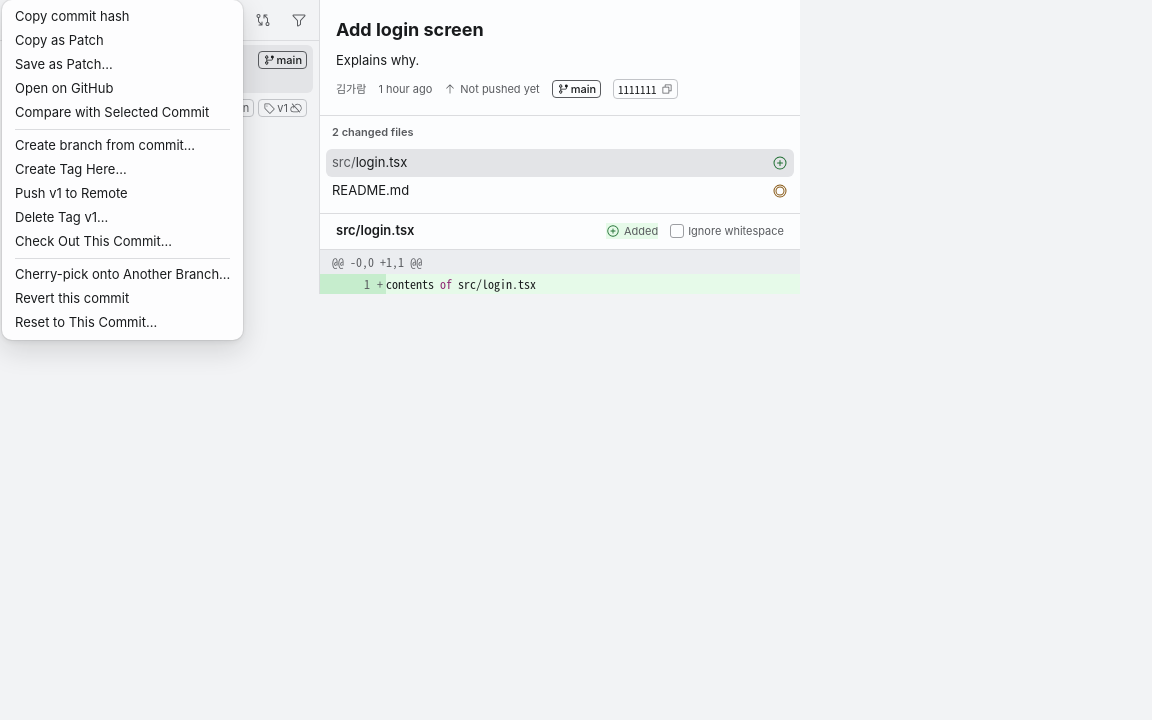
Test: HistoryView › tags and the remote › marks a tag the remote lacks and pushes it from the commit menu
The width and height of the screenshot is (1152, 720).
Click the menu item "Push v1 to Remote": coordinates (71, 193) [15,185,128,201]
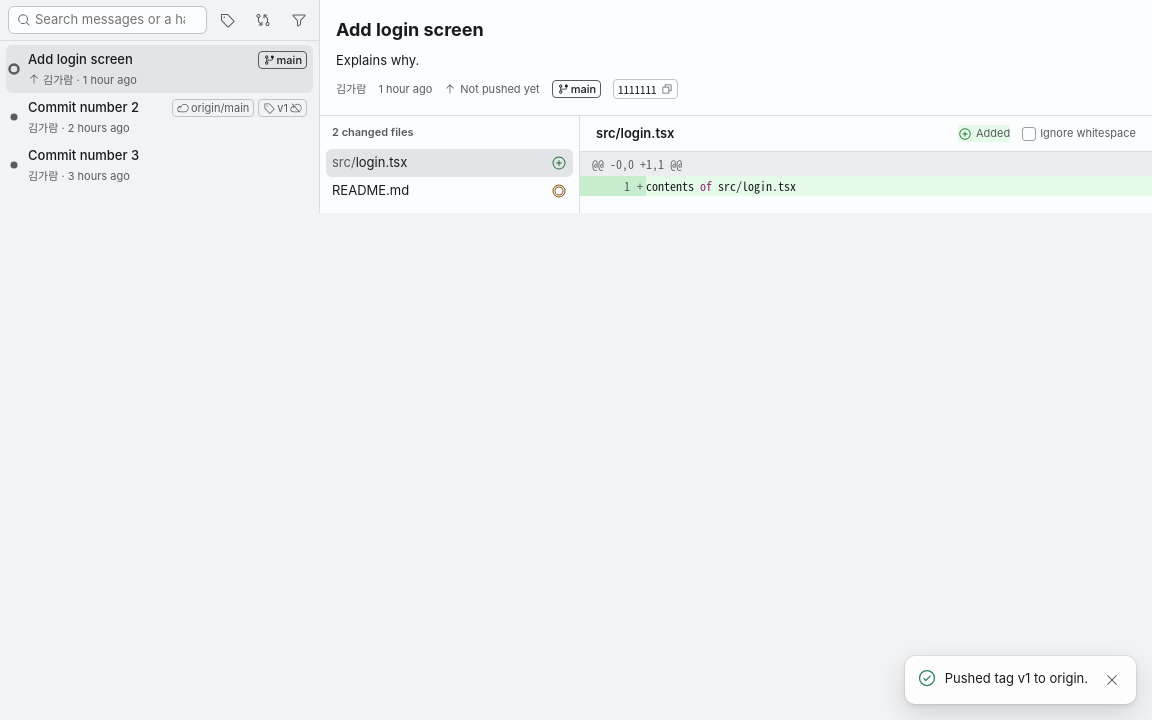
Expected: the text "Pushed tag v1 to origin." is shown, [945,669,1088,688]
